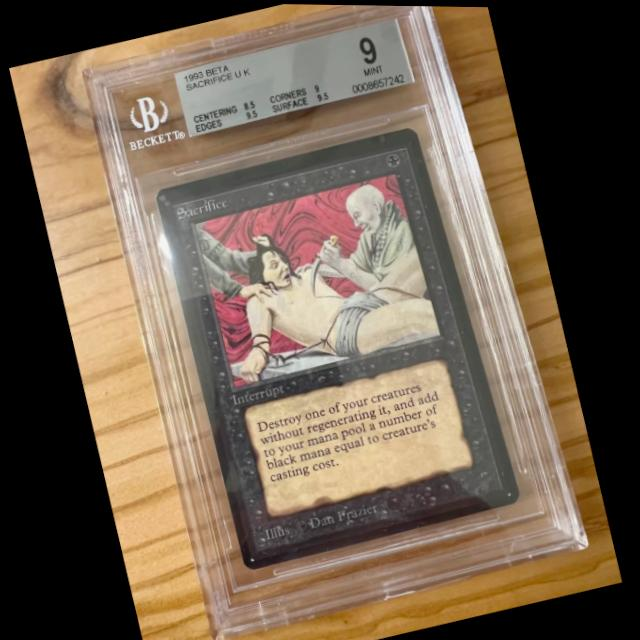bgs_label: (174, 16, 415, 136)
bgs_slab: (80, 4, 593, 640)
card: (153, 124, 525, 571)
